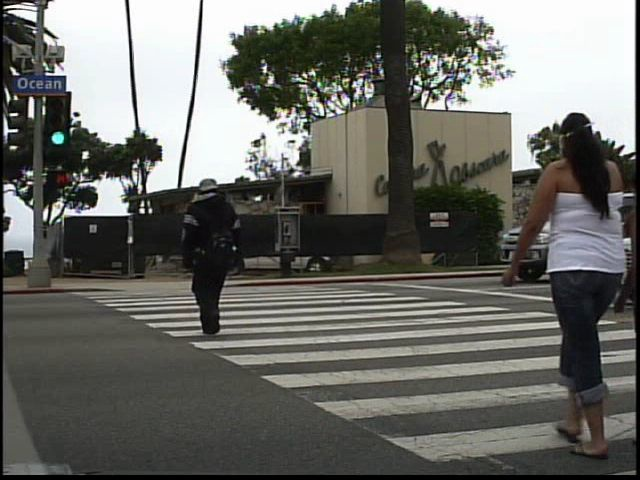person: (508, 104, 622, 470), (170, 168, 260, 347)
